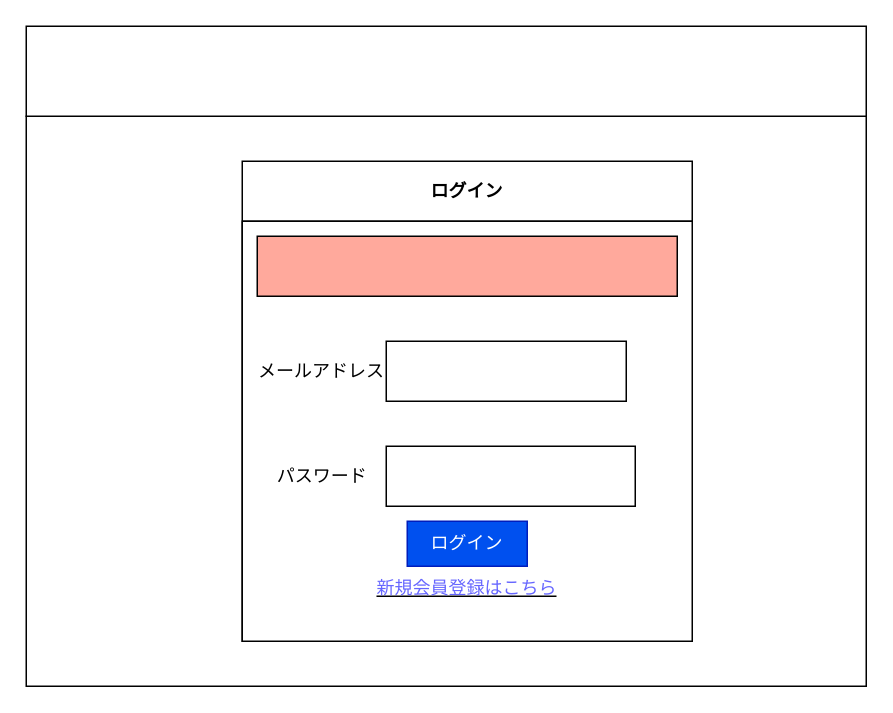
Some shapes in this 893 by 713 pixel diagram are drawn without their labels. The shapes that lost their labels are listed below. From the top down, each one's box as (x1, y1, x2, y2) in pixels, then its label:
(25, 25, 866, 116): つぶやきアプリ
(256, 235, 677, 296): メールアドレス、パスワードが違います
